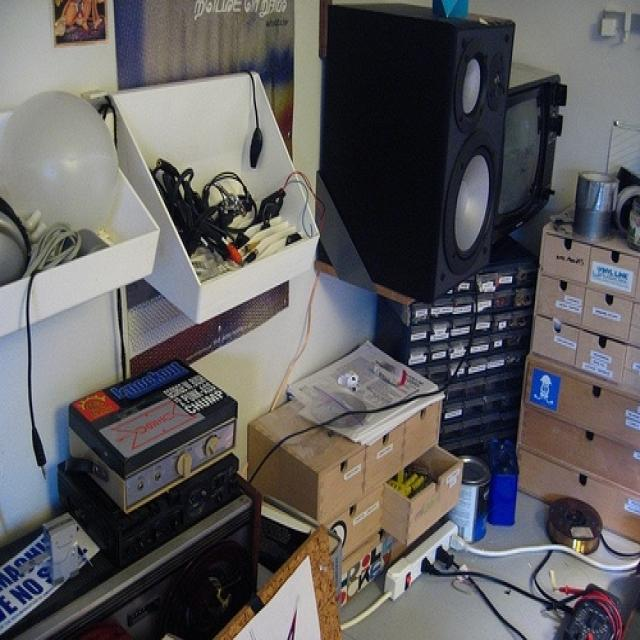Cable: (148, 104, 334, 264), (441, 515, 640, 639), (2, 199, 85, 475), (286, 379, 453, 447), (279, 266, 323, 393)
E-waste: (322, 0, 564, 352), (0, 370, 269, 608)
